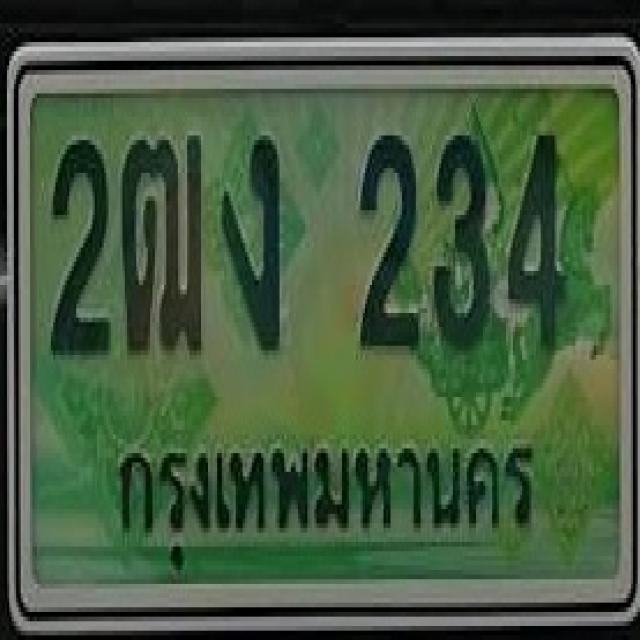license_plate: (4, 32, 640, 635)
